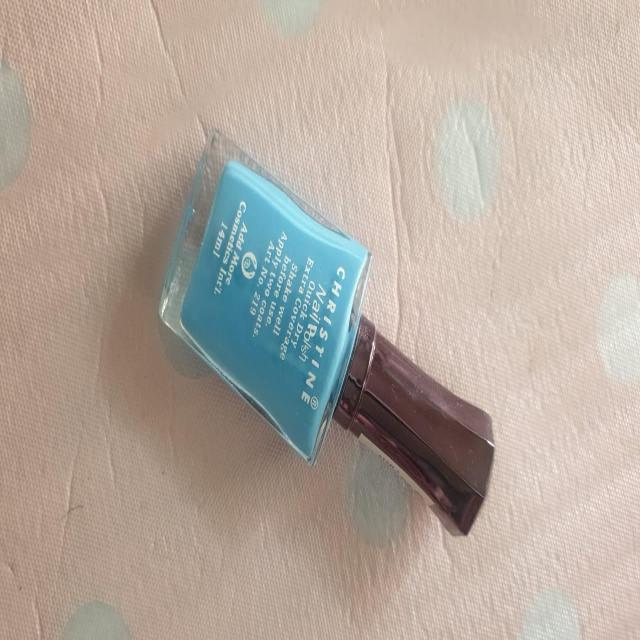nail polish: (160, 116, 499, 543)
